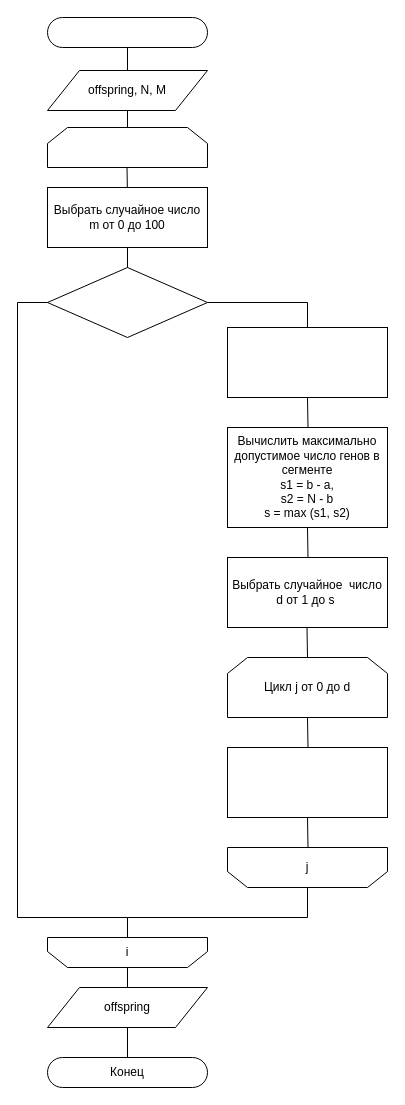
Image size: 405x1105. Some labels were removed from this diagram. The shapes that lost their labels are listed below. From the top down, each one's box as (x1, y1, x2, y2) in pixels, then its label:
(46, 16, 208, 48): Начало
(46, 126, 208, 168): Цикл i от 0 до N
(46, 266, 208, 338): m < M
(226, 326, 388, 398): Выбрать 2 случайных числа a и b от 0 до N, a < b
(226, 746, 388, 818): Поменять местами гены a + j и b + j в хромосоме population[i]
